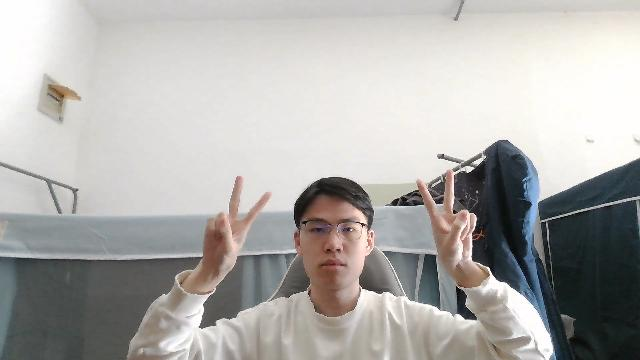yes: (188, 170, 274, 288), (416, 168, 482, 277)
